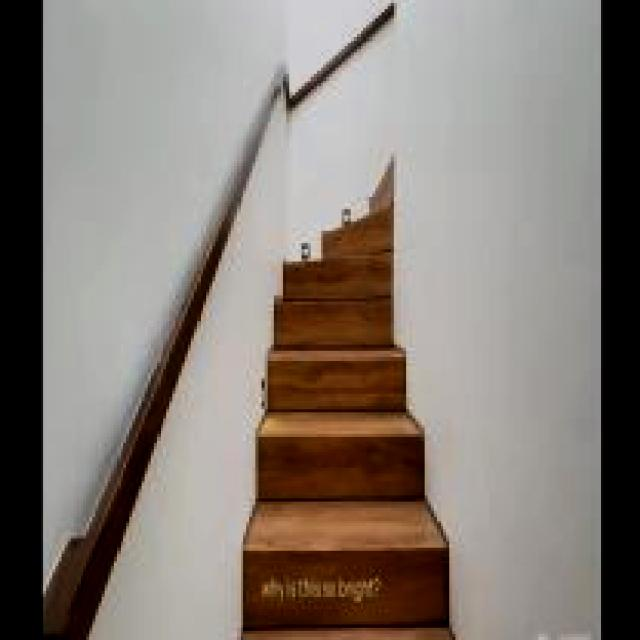upstair: (269, 259, 392, 640)
